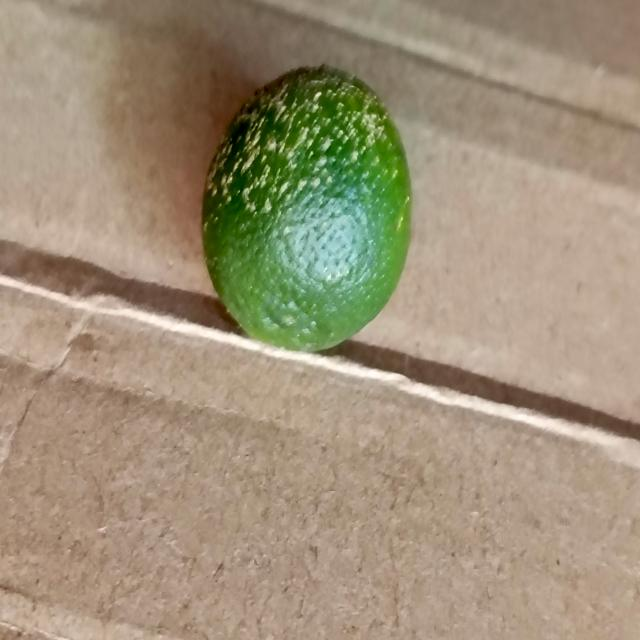scab: (190, 61, 420, 359)
